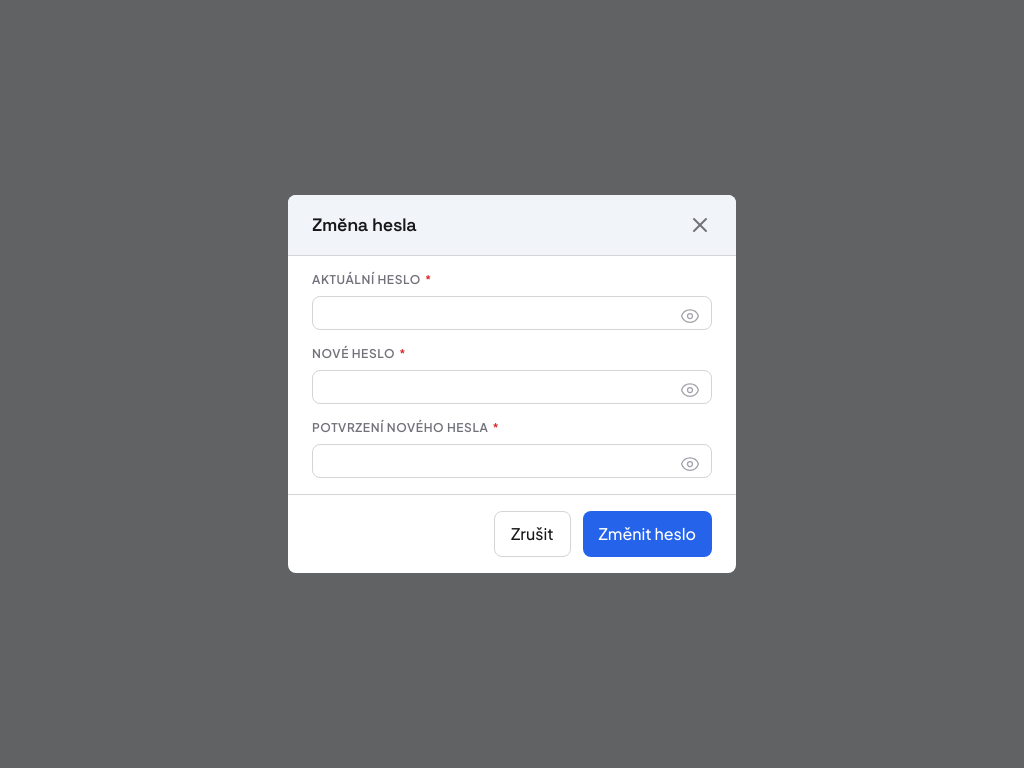
Test: ChangePasswordDialog › client-side validation › blocks submission when new password does not meet complexity requirements
In the password field labelled "Aktuální heslo*": (512,313) [312,296,712,330], type "OldPassword1!"
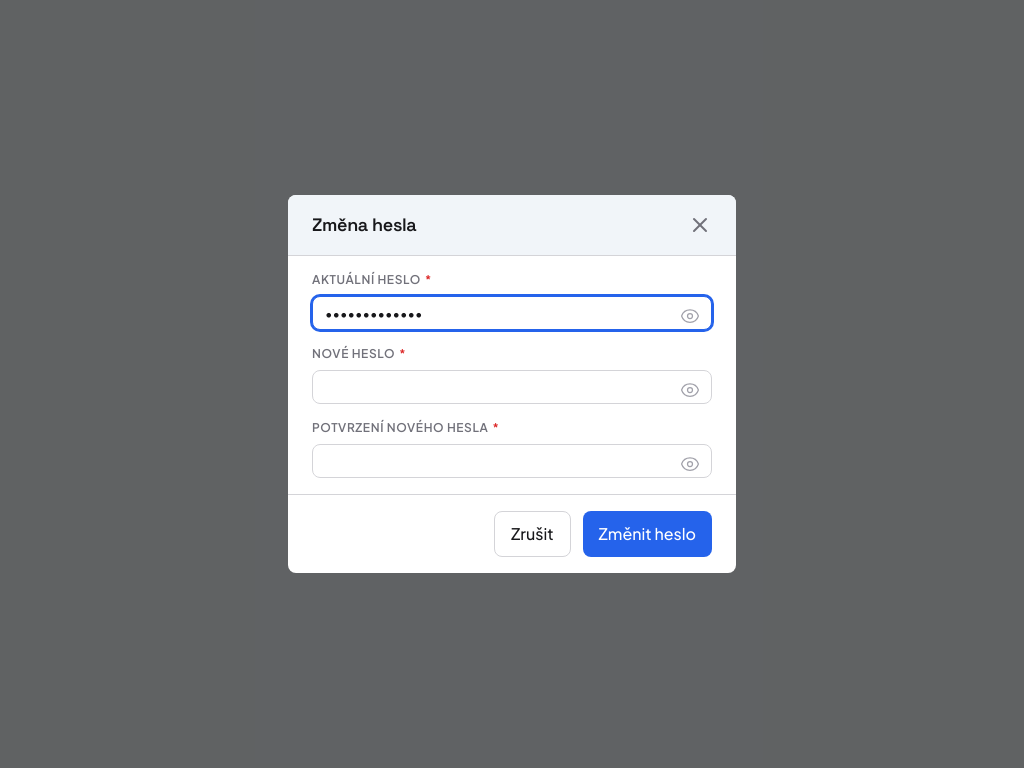
In the password field labelled "Nové heslo*": (512,387) [312,370,712,404], type "weak"
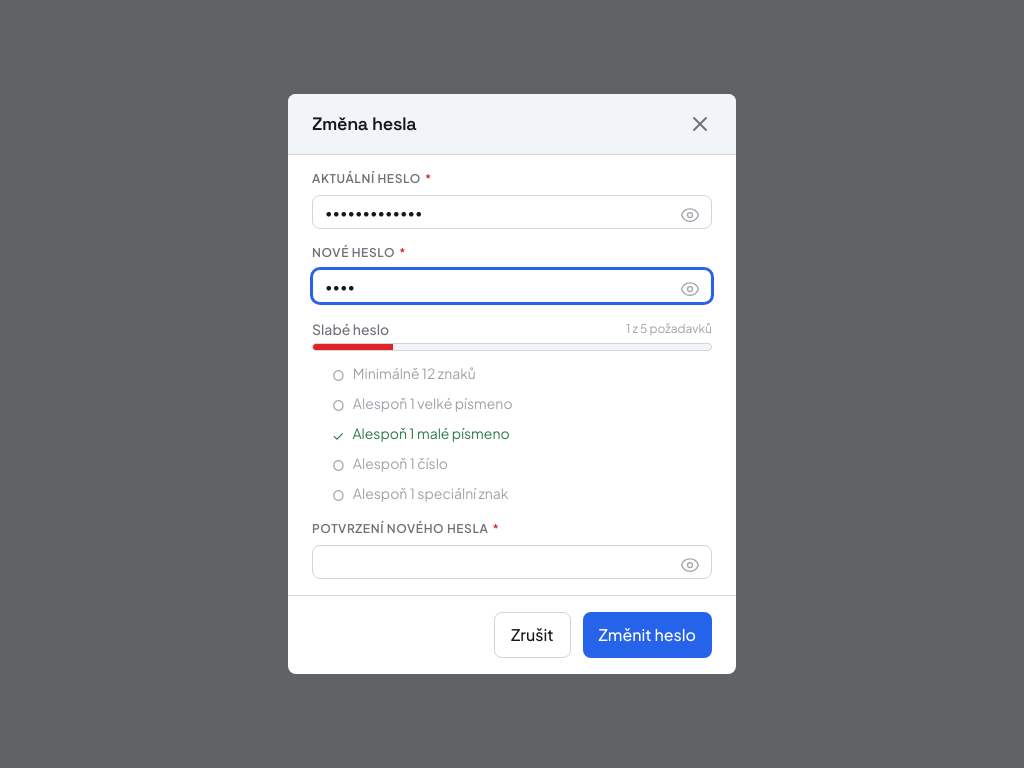
In the password field labelled "Potvrzení nového hesla*": (512,562) [312,545,712,579], type "weak"
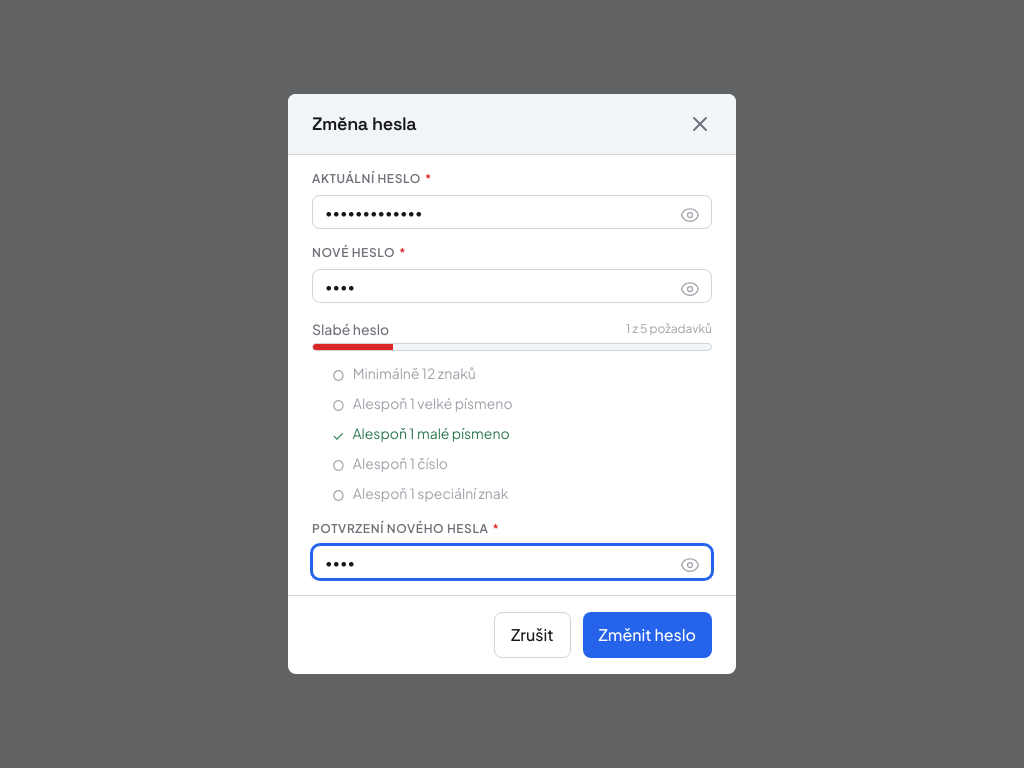
Click the button "Změnit heslo": (647,635) [583,612,712,658]
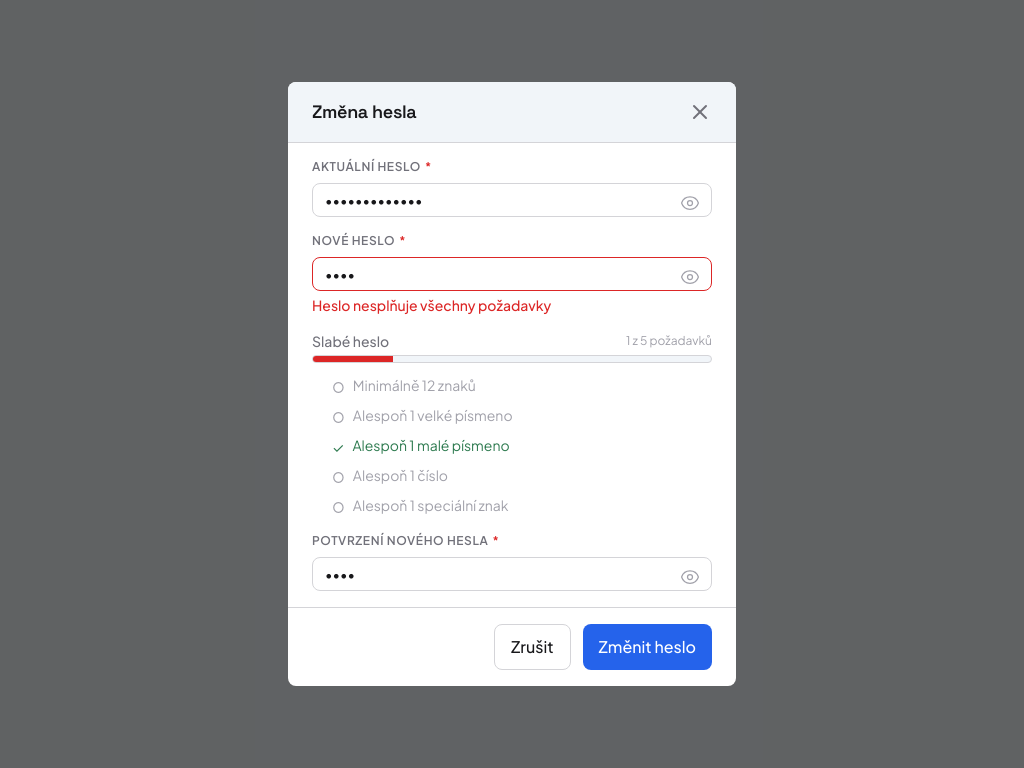
Now the text "Heslo nesplňuje všechny požadavky" is shown, box [312,296,551,314]
